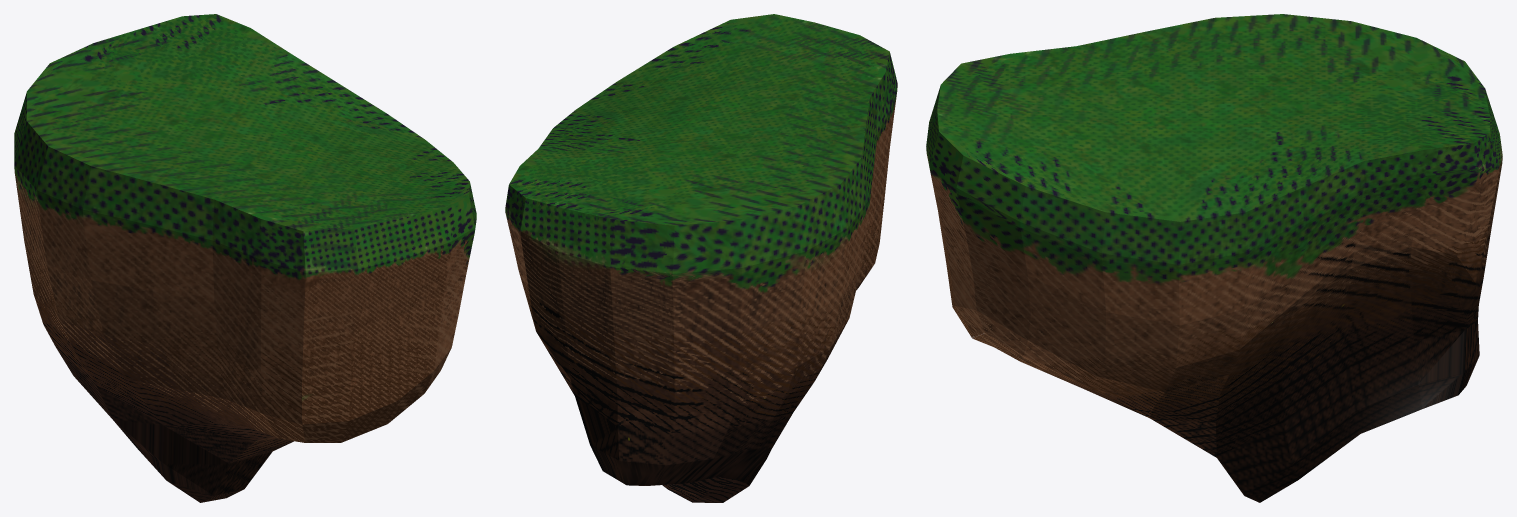
File: PLATFORM 3D 1.fbx
The picture shows the model from 3 angles, left to right: view 1: azimuth 30°, elevation 25°; view 2: azimuth 150°, elevation 25°; view 3: azimuth 270°, elevation 25°; orthographic projection. The views are drawn at different scales.
Visible parts, largest first — view 1: Cube.005; view 2: Cube.005; view 3: Cube.005.
Part boxes in pixels (x1,y1,x2,y2): Cube.005: (14,14,476,502); Cube.005: (505,14,897,502); Cube.005: (926,14,1502,502).
Bounding box in the file's own units: 460 × 495 × 636.
Materials: 1 (1 with a texture image).
